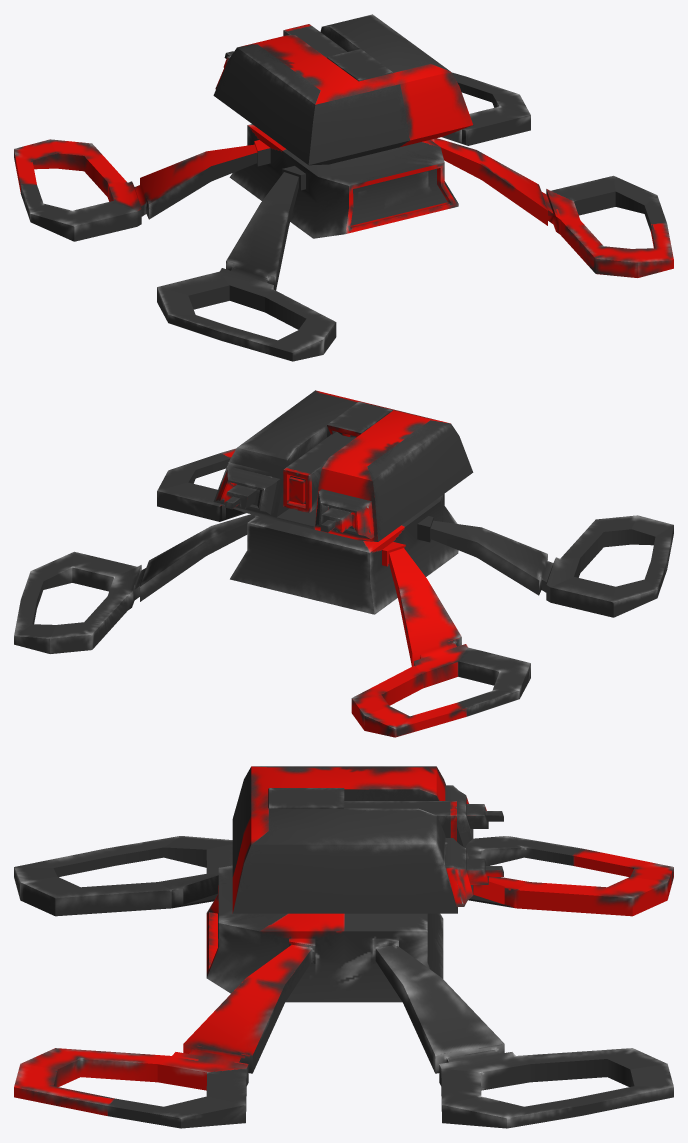
The model's file is hoverTank2.dae.
The picture shows the model from 3 angles, top to bottom: view 1: azimuth 30°, elevation 25°; view 2: azimuth 150°, elevation 25°; view 3: azimuth 270°, elevation 25°; orthographic projection. The views are drawn at different scales.
Visible parts, largest first — view 1: Cube.001, Cube, Cube.004, Cube.002; view 2: Cube.001, Cube, Cube.007, Cube.002, Cube.004; view 3: Cube.001, Cube, Cube.007, Cube.004, Cube.002.
Boxes of the visible parts, <box> form: Cube.001: <box>14,72,673,361</box>; Cube: <box>213,14,472,165</box>; Cube.004: <box>327,49,392,81</box>; Cube.002: <box>283,24,346,57</box>; Cube.001: <box>14,448,673,737</box>; Cube: <box>213,390,473,541</box>; Cube.007: <box>215,467,374,539</box>; Cube.002: <box>283,432,355,512</box>; Cube.004: <box>327,401,392,436</box>; Cube.001: <box>14,836,673,1128</box>; Cube: <box>232,766,457,913</box>; Cube.007: <box>445,785,503,906</box>; Cube.004: <box>268,788,344,808</box>; Cube.002: <box>344,801,456,841</box>.
Size of the model in its own units: 6.68 by 6.6 by 2.13.
1 material, 1 textured.
